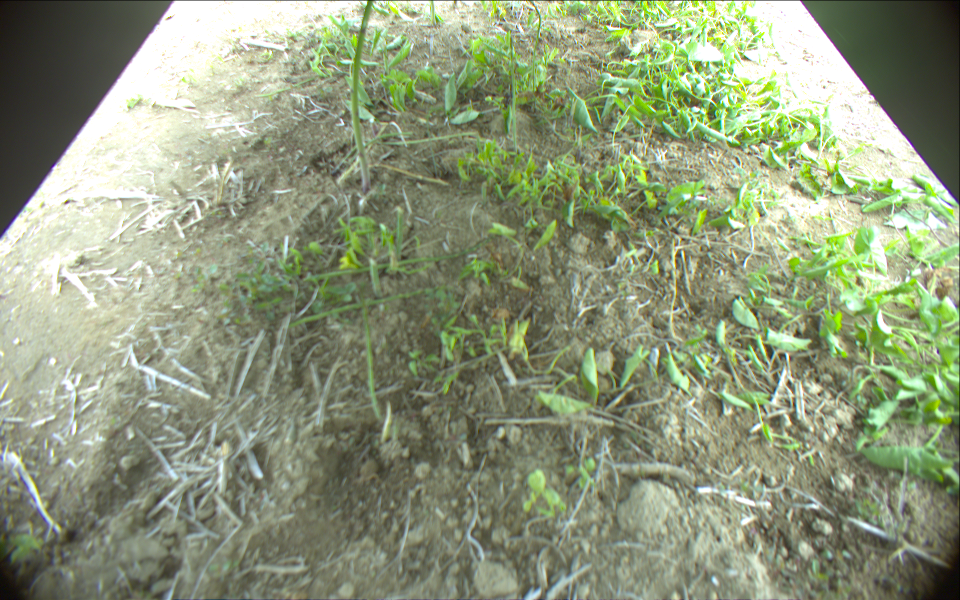aspa: (285, 288, 436, 329), (302, 247, 470, 282), (350, 1, 379, 192), (358, 289, 381, 416), (506, 32, 521, 150), (368, 258, 382, 295), (529, 1, 543, 37), (395, 205, 404, 253), (428, 1, 438, 24)
